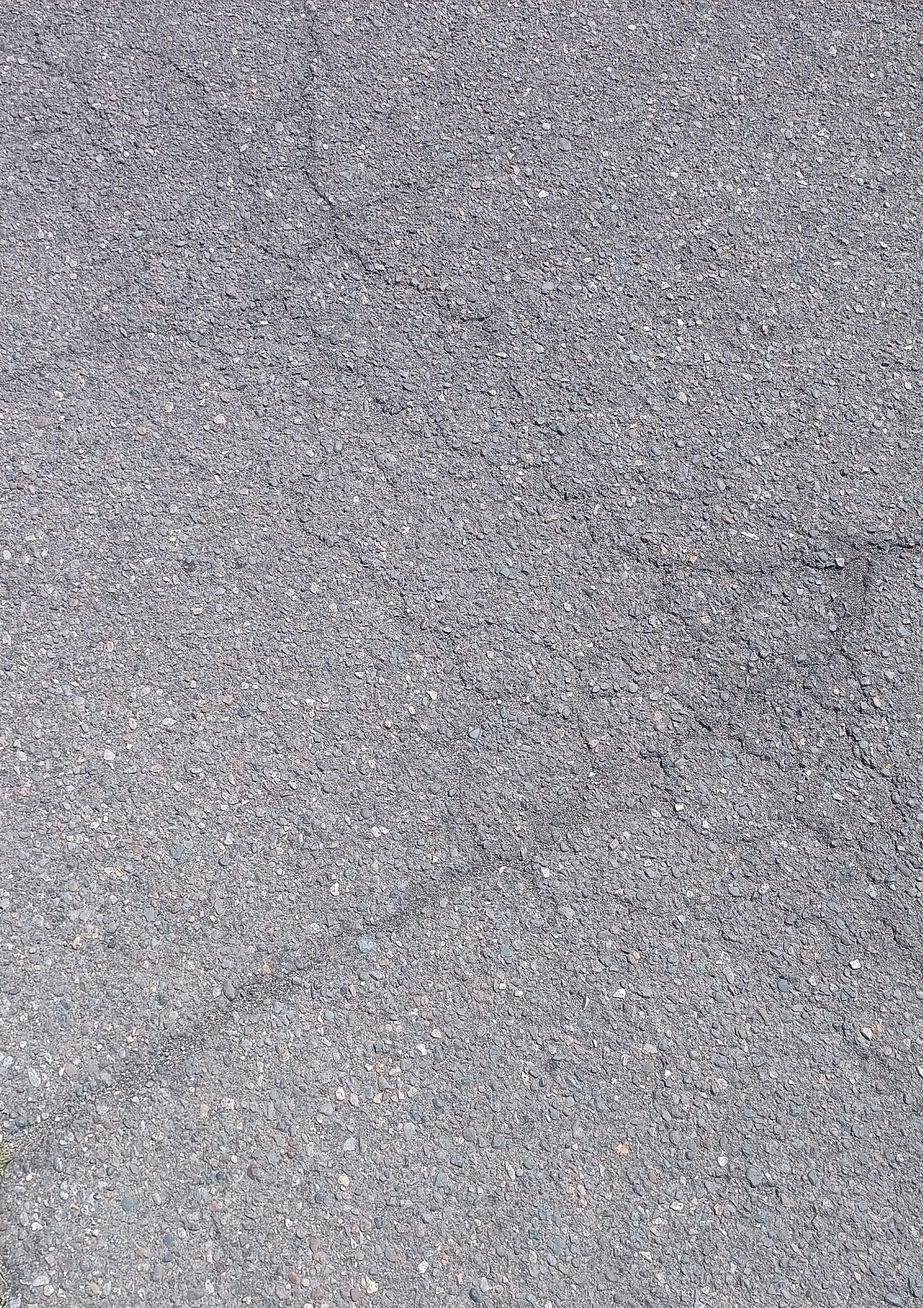GRIETA: (0, 854, 559, 1170)
PIEL DE COCODRILO: (0, 0, 923, 1072)
